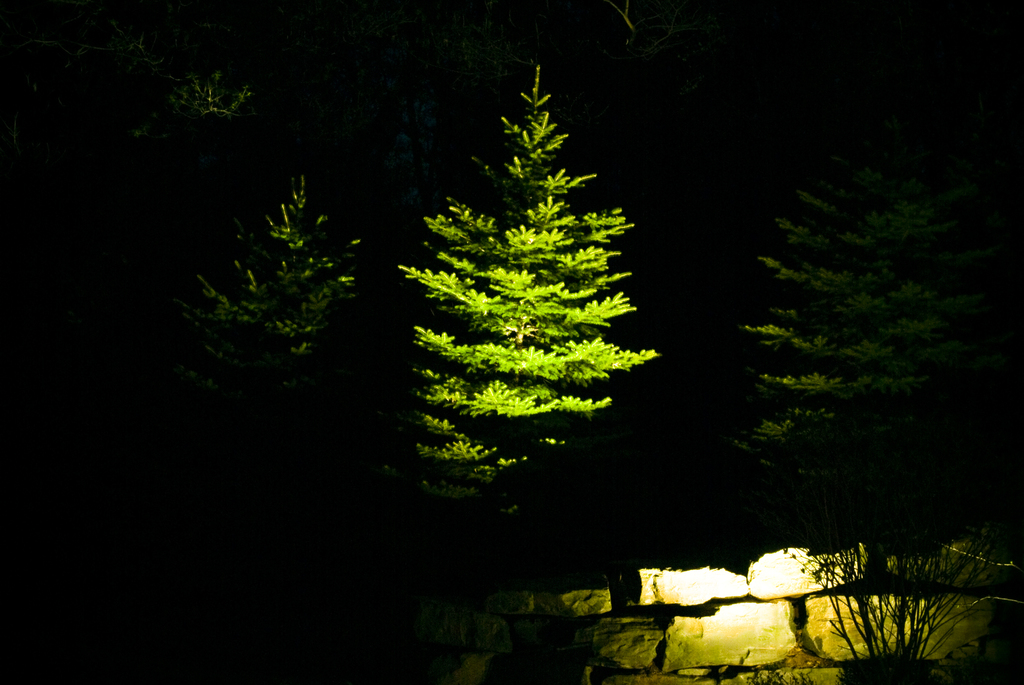Tree: (1, 0, 1024, 523)
